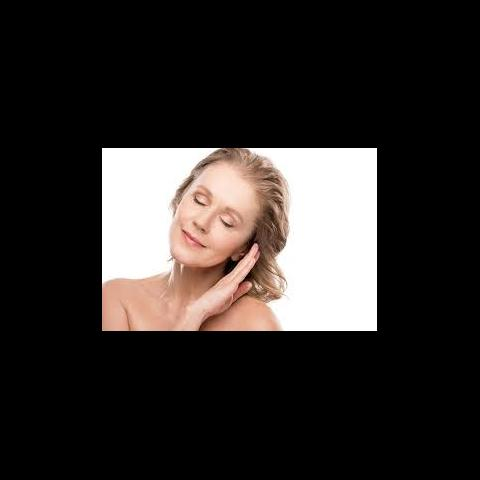closed: (189, 181, 244, 233)
